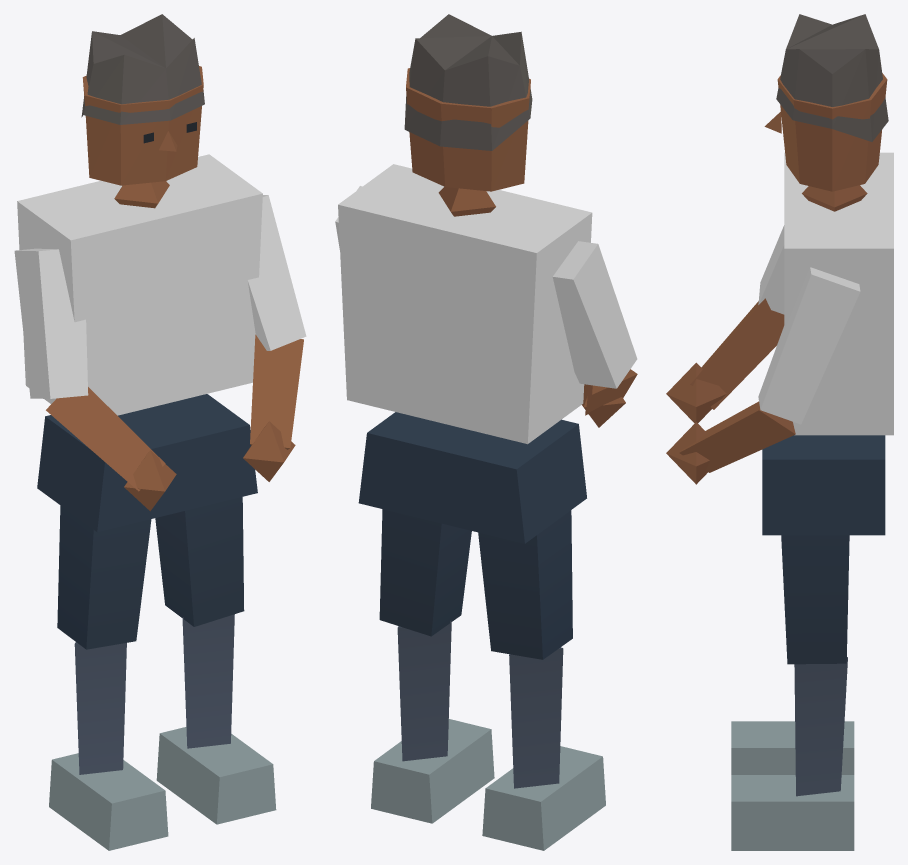
The model's file is fan-12.glb.
The picture shows the model from 3 angles, left to right: view 1: azimuth 30°, elevation 25°; view 2: azimuth 150°, elevation 25°; view 3: azimuth 270°, elevation 25°; orthographic projection. The views are drawn at different scales.
Visible parts, largest first — view 1: fan-12; view 2: fan-12; view 3: fan-12.
Part boxes in pixels (<box>): fan-12: <box>14,14,306,850</box>; fan-12: <box>335,14,637,850</box>; fan-12: <box>666,14,893,850</box>.
Bounding box in the file's own units: 0.6958 × 1.95 × 0.519.
